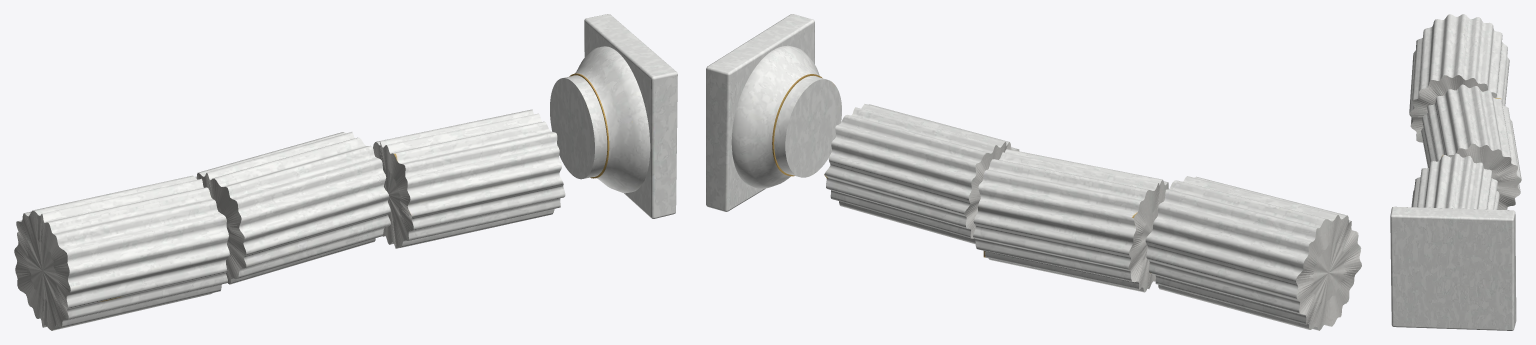
File: fallen_column.glb
The picture shows the model from 3 angles, left to right: view 1: azimuth 30°, elevation 25°; view 2: azimuth 150°, elevation 25°; view 3: azimuth 270°, elevation 25°; orthographic projection. The views are drawn at different scales.
Visible parts, largest first — view 1: Separate fallen drum 1; view 2: Separate fallen drum 1; view 3: Separate fallen drum 1.
Boxes of the visible parts, x1,y1,x2,y2 form: Separate fallen drum 1: [14, 14, 677, 330]; Separate fallen drum 1: [706, 14, 1361, 330]; Separate fallen drum 1: [1390, 14, 1521, 330].
Bounding box in the file's own units: 5.41 × 1.22 × 1.29.
3 materials, 3 textured.
